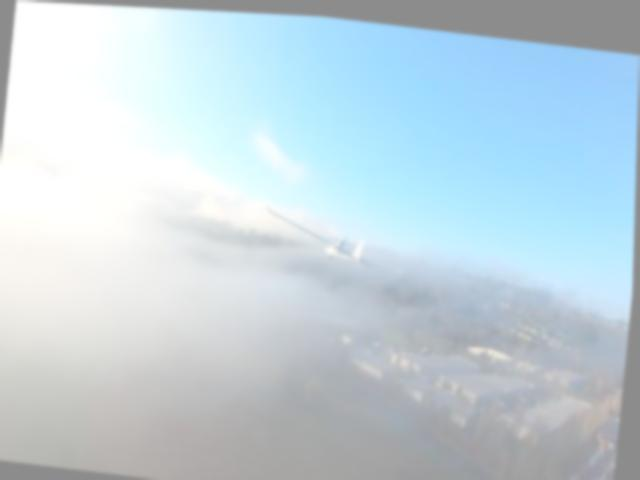uav: (251, 189, 418, 284)
